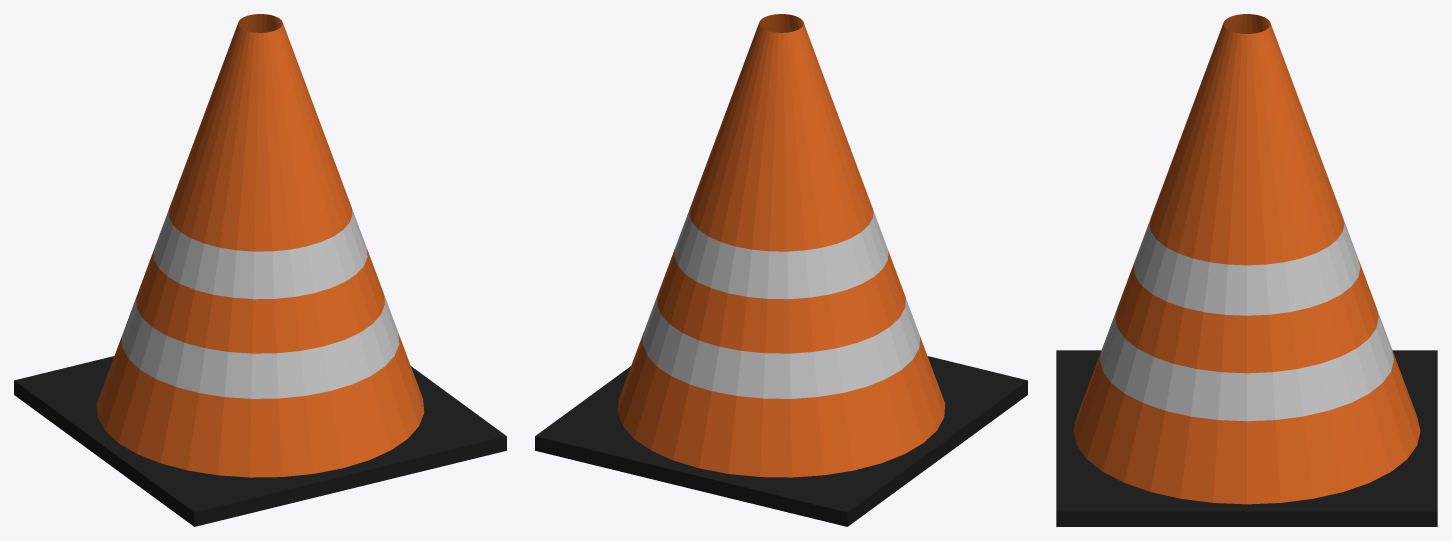
File: Cono.fbx
The picture shows the model from 3 angles, left to right: view 1: azimuth 30°, elevation 25°; view 2: azimuth 150°, elevation 25°; view 3: azimuth 270°, elevation 25°; orthographic projection. The views are drawn at different scales.
Visible parts, largest first — view 1: Cylinder; view 2: Cylinder; view 3: Cylinder.
Part boxes in pixels (box(x1,y1,x2,y2)): Cylinder: box(14, 14, 506, 526); Cylinder: box(535, 14, 1027, 526); Cylinder: box(1056, 14, 1437, 526).
Bounding box in the file's own units: 200 × 244 × 200.
